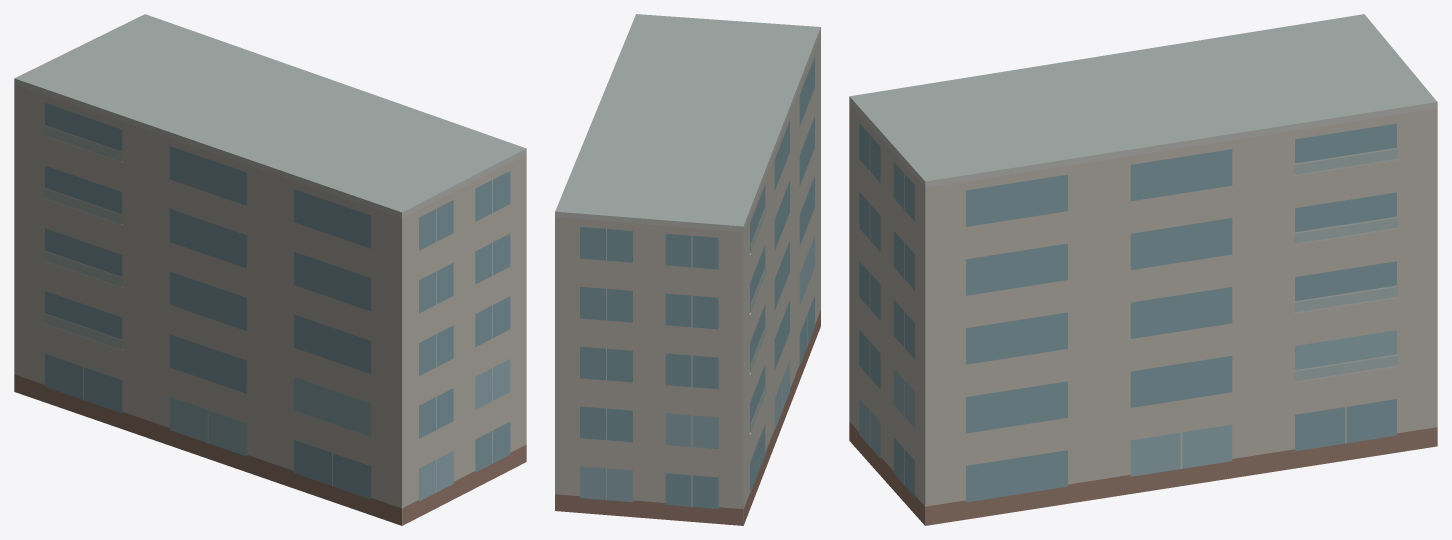
The model's file is survey-upis-32904941.glb.
The picture shows the model from 3 angles, left to right: view 1: azimuth 30°, elevation 25°; view 2: azimuth 150°, elevation 25°; view 3: azimuth 270°, elevation 25°; orthographic projection. The views are drawn at different scales.
Parts seen in each view (by area): view 1: survey-upis-32904941.tmp; view 2: survey-upis-32904941.tmp; view 3: survey-upis-32904941.tmp.
Part boxes in pixels (x1,y1,x2,y2): survey-upis-32904941.tmp: (14,14,526,525); survey-upis-32904941.tmp: (555,14,820,525); survey-upis-32904941.tmp: (849,14,1437,525).
Bounding box in the file's own units: 13.67 × 13.1 × 20.28.
